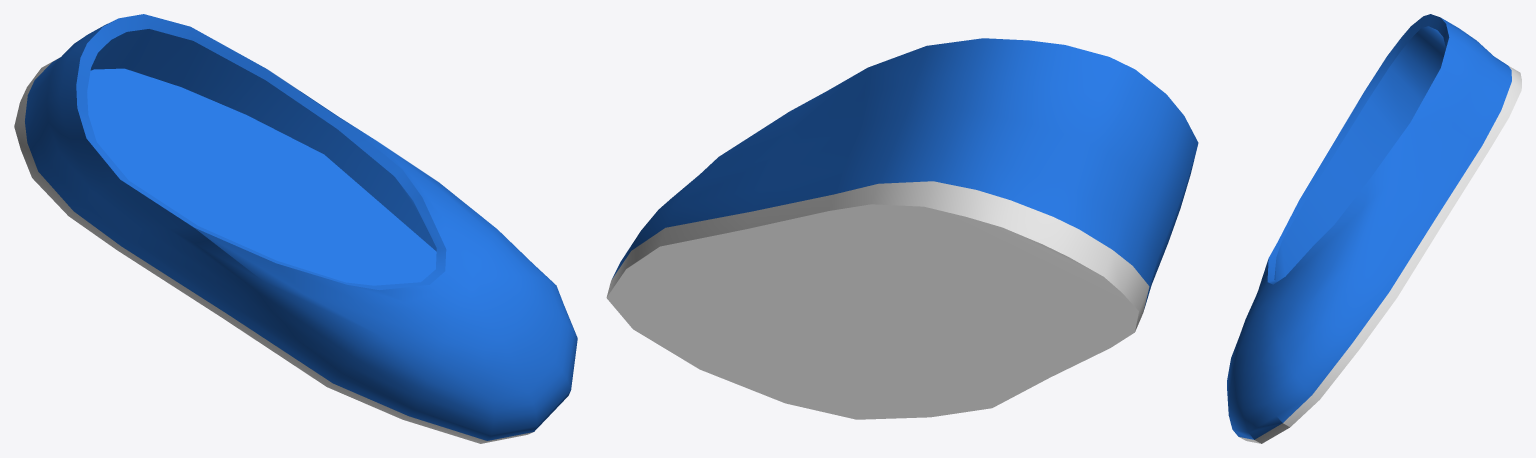
The model's file is Flat_Shoe.gltf.
The picture shows the model from 3 angles, left to right: view 1: azimuth 30°, elevation 25°; view 2: azimuth 150°, elevation 25°; view 3: azimuth 270°, elevation 25°; orthographic projection. The views are drawn at different scales.
Visible parts, largest first — view 1: Sphere.368; view 2: Sphere.368; view 3: Sphere.368.
Boxes of the visible parts, x1,y1,x2,y2 form: Sphere.368: (14, 14, 577, 443); Sphere.368: (606, 38, 1198, 419); Sphere.368: (1227, 14, 1521, 443).
Size of the model in its own units: 1.63 by 1.41 by 1.22.
